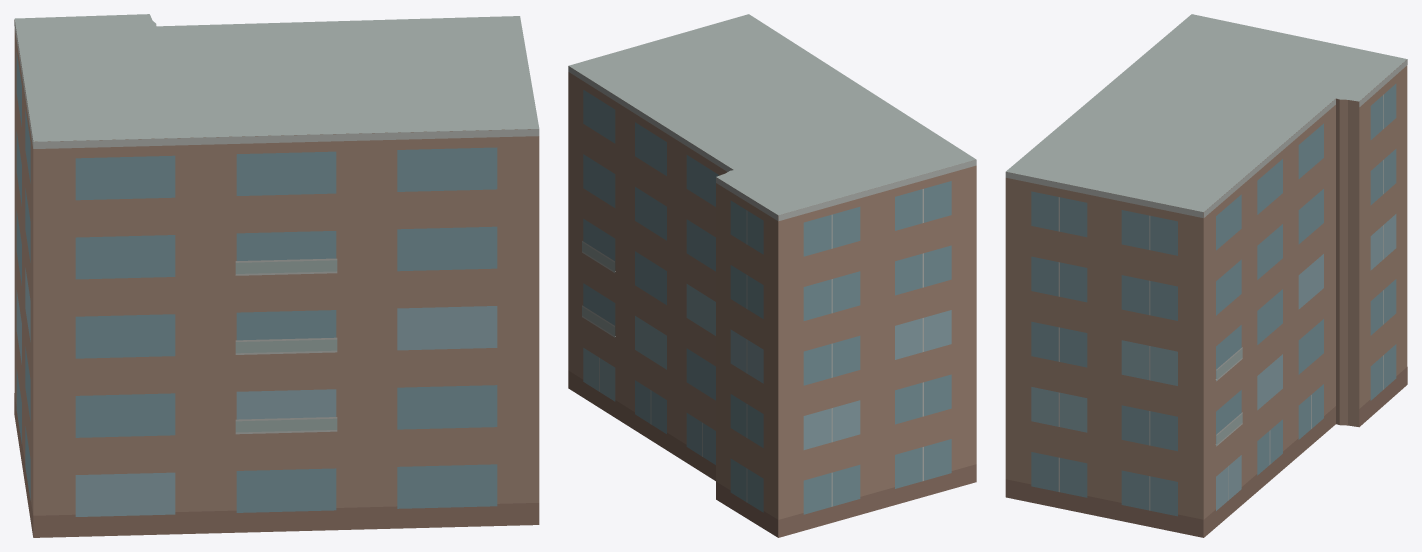
File: survey-upis-32977669.glb
The picture shows the model from 3 angles, left to right: view 1: azimuth 30°, elevation 25°; view 2: azimuth 150°, elevation 25°; view 3: azimuth 270°, elevation 25°; orthographic projection. The views are drawn at different scales.
Visible parts, largest first — view 1: survey-upis-32977669.tmp; view 2: survey-upis-32977669.tmp; view 3: survey-upis-32977669.tmp.
Part boxes in pixels (x1,y1,x2,y2): survey-upis-32977669.tmp: (14, 14, 539, 537); survey-upis-32977669.tmp: (568, 14, 976, 537); survey-upis-32977669.tmp: (1005, 14, 1407, 537).
Size of the model in its own units: 17.24 by 13.2 by 14.77.
